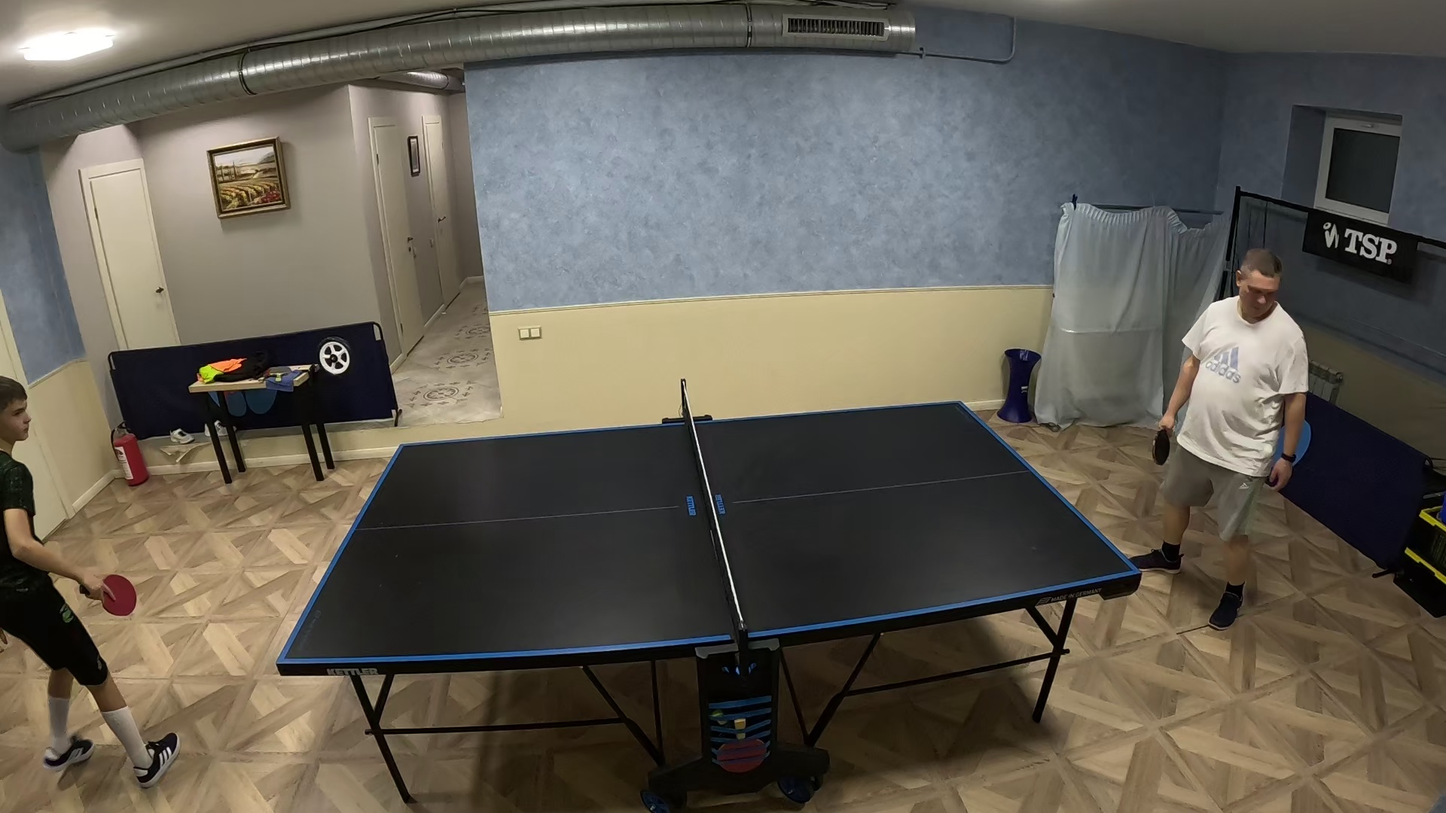Ball: (1264, 444, 1272, 453)
